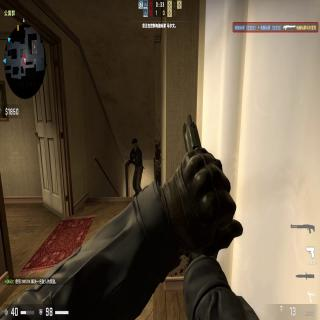T-Body: (129, 139, 143, 191)
T-Head: (132, 140, 138, 150)
